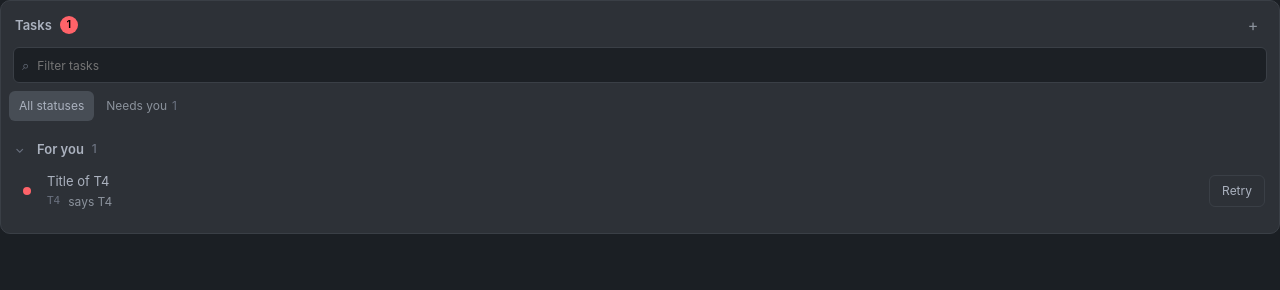
Test case: TasksScreen verbs › a refused Retry says why, on the screen
The width and height of the screenshot is (1280, 290).
Click the button "Retry": (1237, 191) left=1209, top=175, right=1265, bottom=207
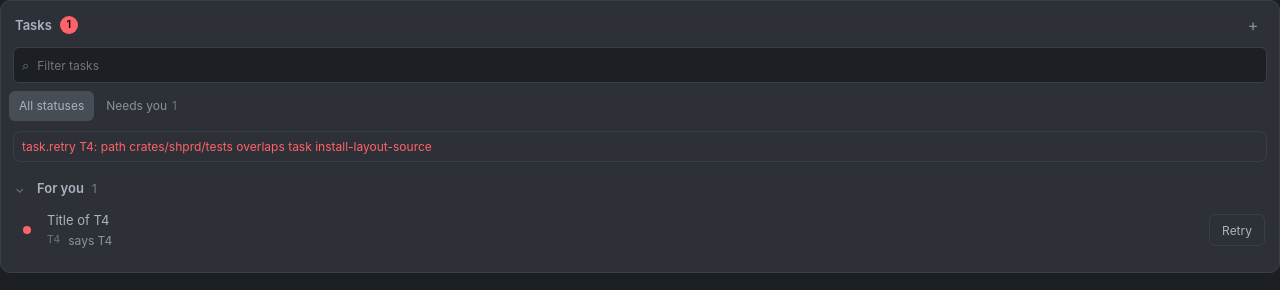
Result: the message shows "path crates/shprd/tests overlaps task install-layout-source" at left=22, top=139, right=432, bottom=154
